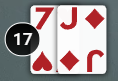7: (31, 6, 56, 31)
j: (59, 5, 81, 31)
